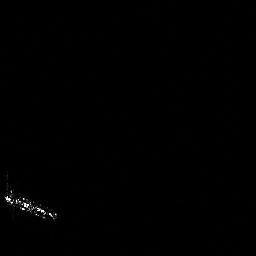ship: (1, 186, 59, 223)
